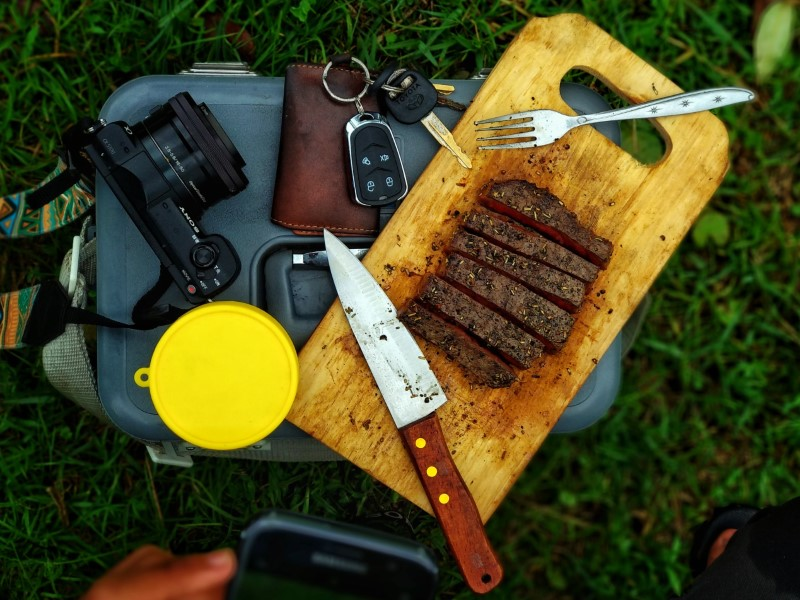carkey: (337, 105, 416, 209)
key: (378, 67, 477, 171)
